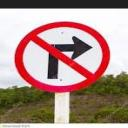NoVirarDireita: (12, 18, 112, 94)
